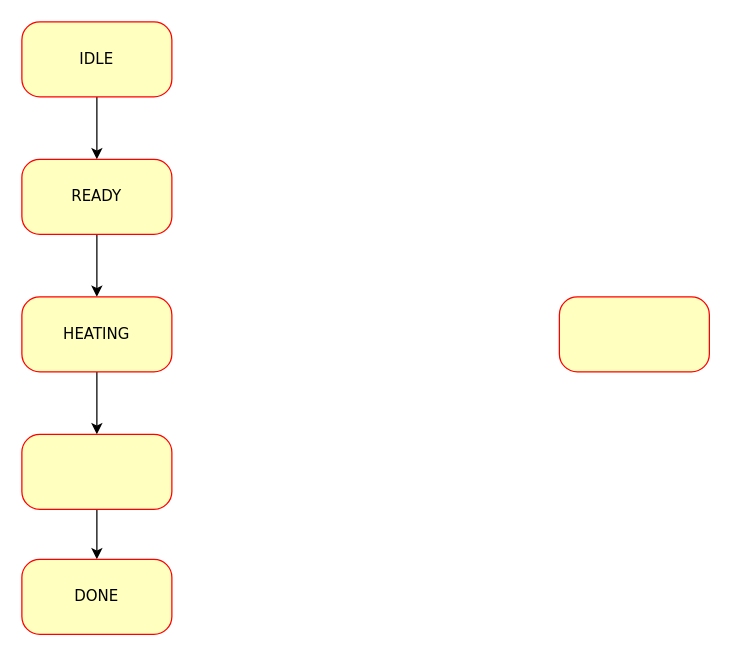
This 731x656 diagram has some shape labels left out. Here are the shapes that lost their labels. From the top down, the box of each, then its label:
(558, 296, 709, 372): ERROR
(21, 433, 172, 509): HOLDING_TEMP
